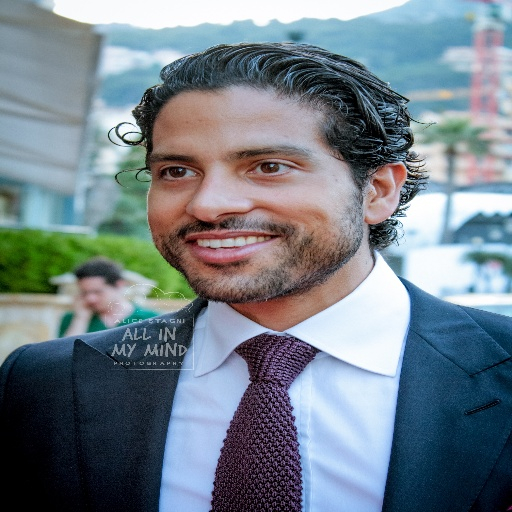hand: (72, 294, 92, 319)
